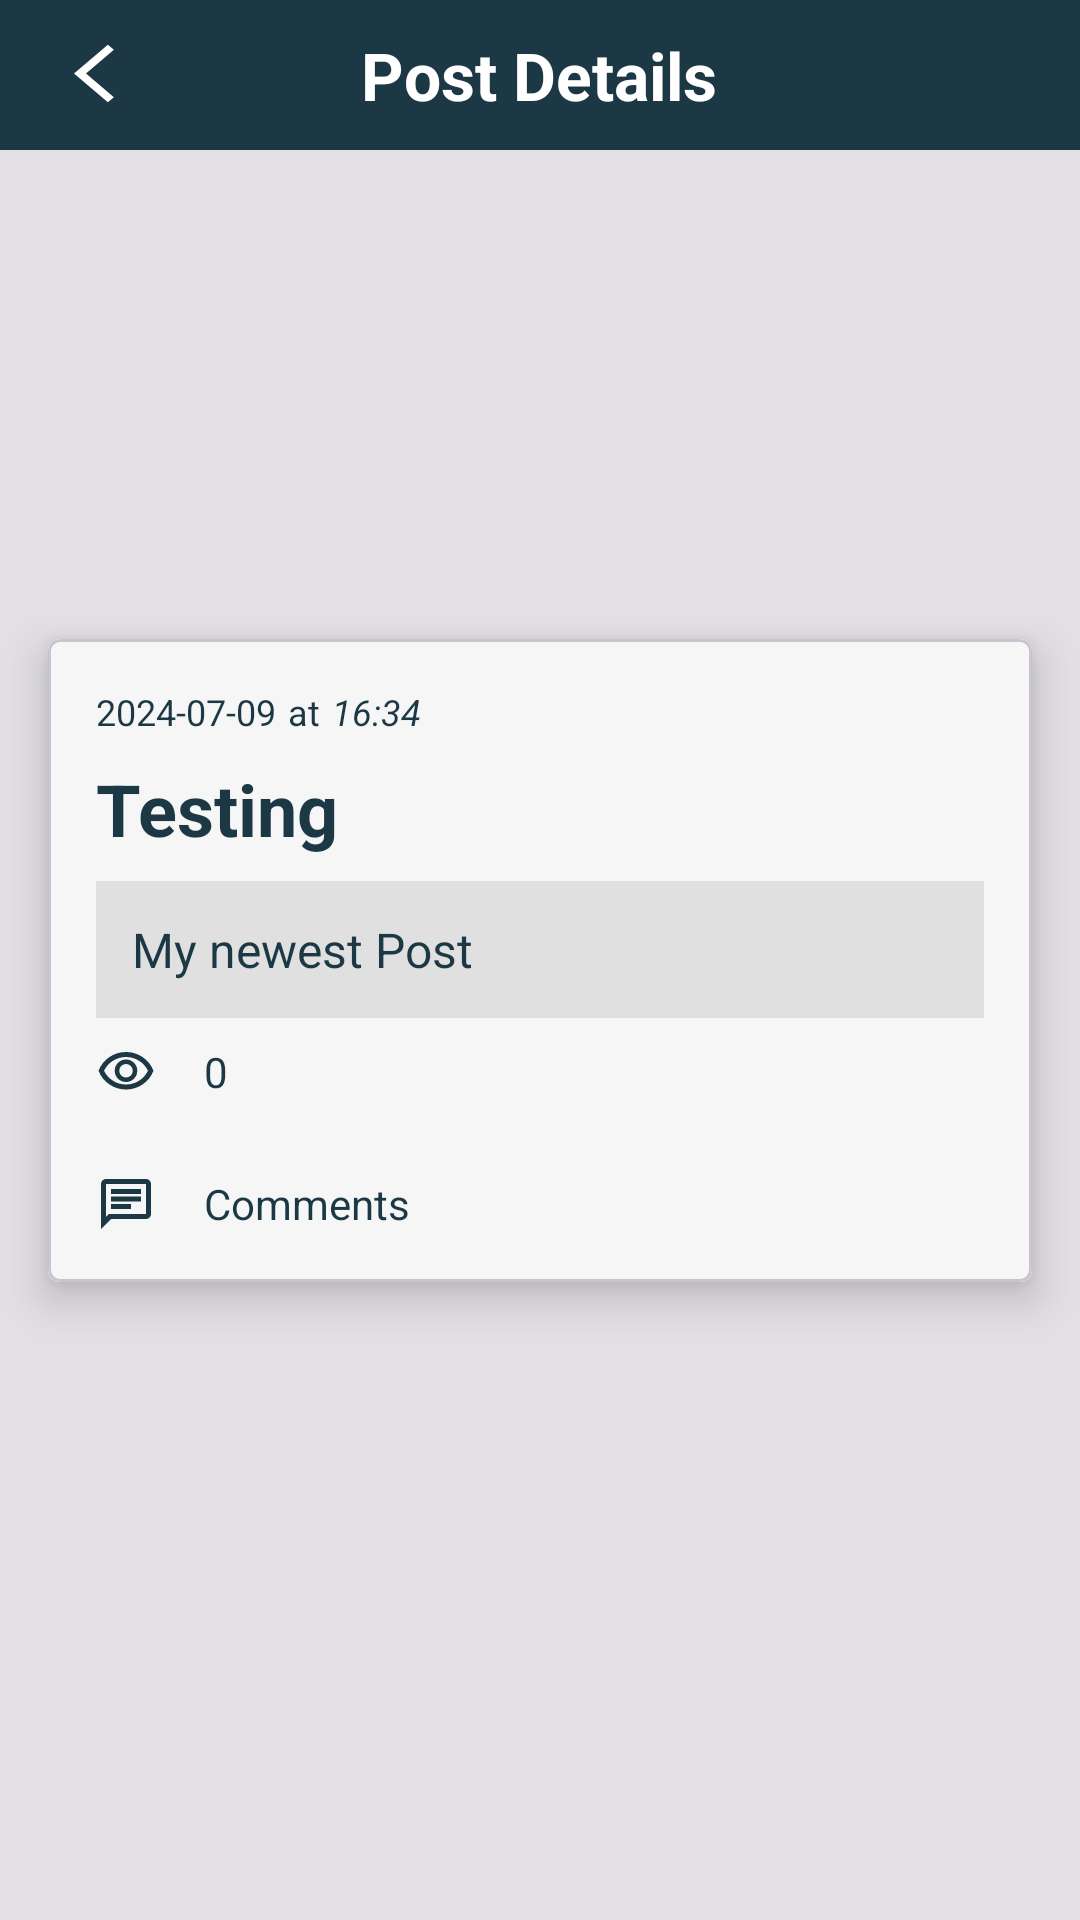

Where icons sit on this 1080*1920 app screen, as (x1, y1, x2, y2):
arrow back: (74, 45, 114, 102)
Views Icon: (98, 1052, 154, 1090)
